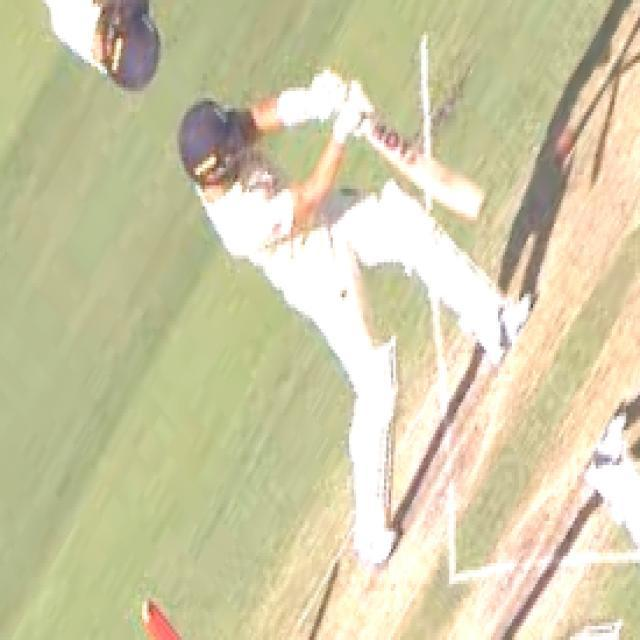bat: (358, 109, 496, 226)
toe: (474, 190, 492, 227)
